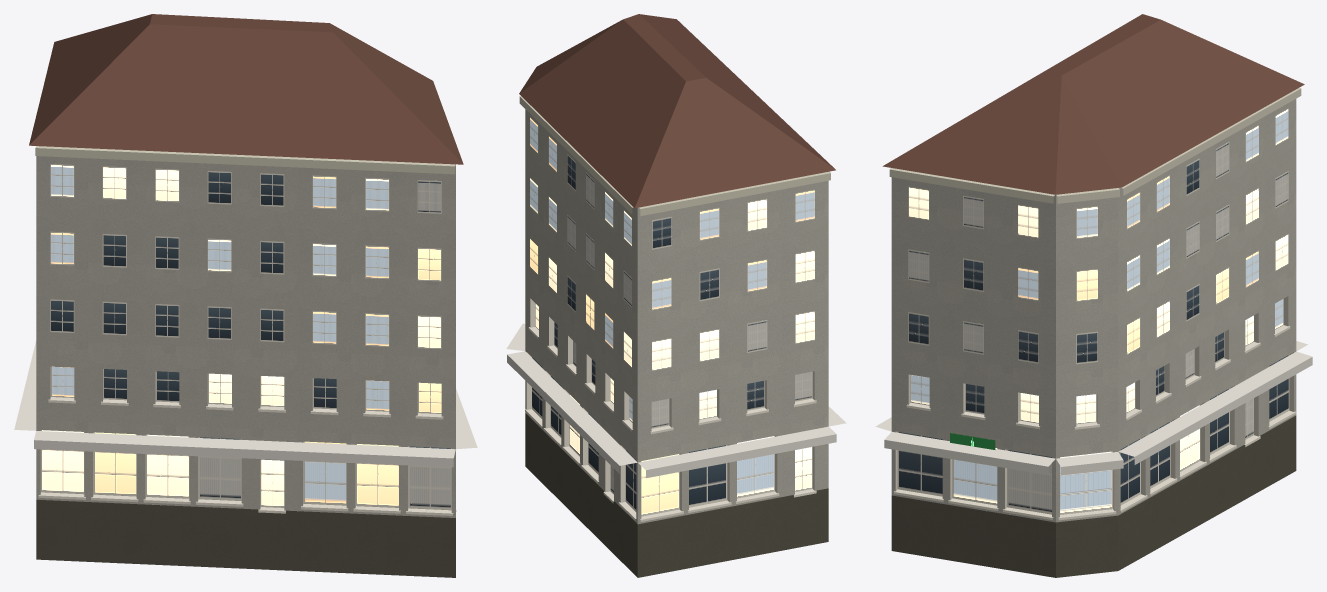
Rendered from langC_piro.glb.
3 renders of one model, left to right at view 1: azimuth 30°, elevation 25°; view 2: azimuth 150°, elevation 25°; view 3: azimuth 270°, elevation 25°, orthographic. The views are drawn at different scales.
Parts seen in each view (by area): view 1: langC_piro; view 2: langC_piro; view 3: langC_piro.
Boxes of the visible parts, box(x1,y1,x2,y2) form: langC_piro: box(14, 14, 477, 577); langC_piro: box(506, 14, 846, 577); langC_piro: box(875, 14, 1312, 577).
Size of the model in its own units: 20.42 by 24.86 by 21.44.
Materials: 3 (3 with a texture image).
